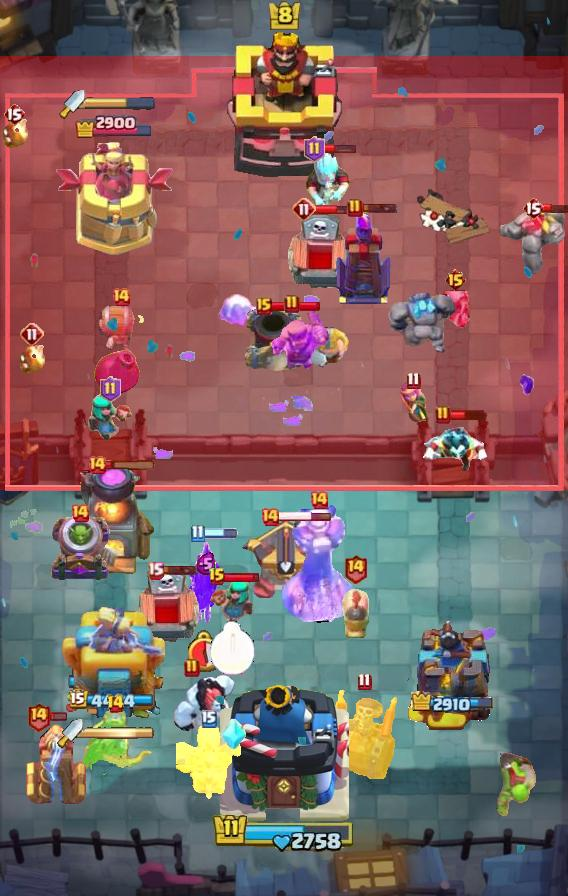archer: (398, 381, 428, 425)
bar: (269, 300, 321, 312), (278, 511, 332, 522), (105, 460, 157, 471), (449, 408, 486, 421), (314, 203, 350, 216), (161, 564, 198, 576), (361, 202, 398, 214), (224, 572, 261, 583), (202, 528, 238, 539), (322, 143, 357, 154), (542, 202, 568, 214), (49, 711, 68, 722)
bar-level: (26, 701, 51, 732), (343, 553, 368, 584), (20, 322, 44, 346), (292, 197, 316, 221), (444, 268, 467, 292), (100, 376, 121, 402), (304, 136, 325, 162), (522, 196, 544, 220), (3, 102, 25, 126), (260, 507, 280, 527), (70, 503, 90, 523), (309, 490, 329, 510), (87, 455, 107, 475), (111, 287, 131, 307), (106, 694, 125, 714), (208, 567, 226, 587), (147, 561, 164, 580), (184, 658, 200, 678), (435, 405, 451, 425), (284, 294, 300, 314), (347, 198, 363, 218), (201, 710, 217, 728), (256, 297, 272, 315), (357, 672, 372, 691), (190, 524, 205, 543), (406, 371, 421, 390)
barbarian-evolution: (269, 308, 333, 376)
bomb: (91, 345, 143, 399)
bomber-evolution: (188, 531, 224, 625)
clock: (209, 621, 256, 676), (188, 630, 224, 672)
dagger-duchess-tower: (55, 142, 174, 256), (60, 607, 168, 731)
dagger-duchess-tower-bar: (83, 726, 155, 740), (85, 97, 155, 111)
electro-wizard: (418, 419, 492, 477)
elite-barbarian: (302, 325, 350, 368)
elixir: (196, 552, 216, 576)
fire-spirit: (17, 345, 47, 377), (0, 119, 30, 151)
goblin-ball: (488, 753, 538, 819)
golemite: (496, 204, 568, 276), (384, 288, 456, 356)
ice-spirit-evolution: (213, 294, 263, 332)
ice-spirit-evolution-symbol: (220, 719, 246, 751)
ice-wizard: (304, 150, 352, 210)
king-tower: (220, 678, 349, 826), (224, 29, 344, 181)
king-tower-bar: (212, 812, 356, 854)
mini-pekka: (437, 287, 473, 331)
mortar: (242, 306, 306, 372)
mortar-evolution: (48, 513, 112, 583)
queen-tower: (405, 617, 501, 731)
rascal-girl: (209, 576, 255, 630), (87, 393, 133, 443)
royal-hog: (339, 588, 371, 640)
tesla: (23, 721, 91, 807)
tower-bar: (411, 691, 496, 716), (74, 113, 154, 138), (70, 690, 158, 712)
wall-breaker: (96, 302, 146, 358)
